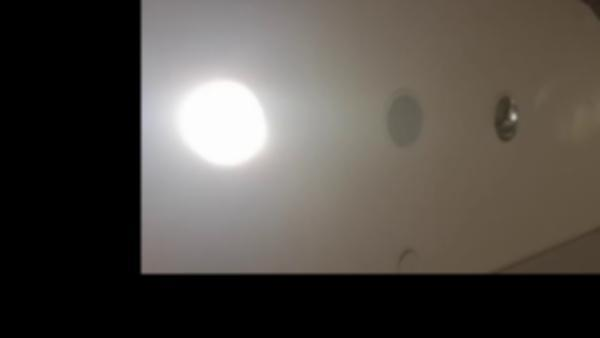light_off: (458, 84, 541, 155)
